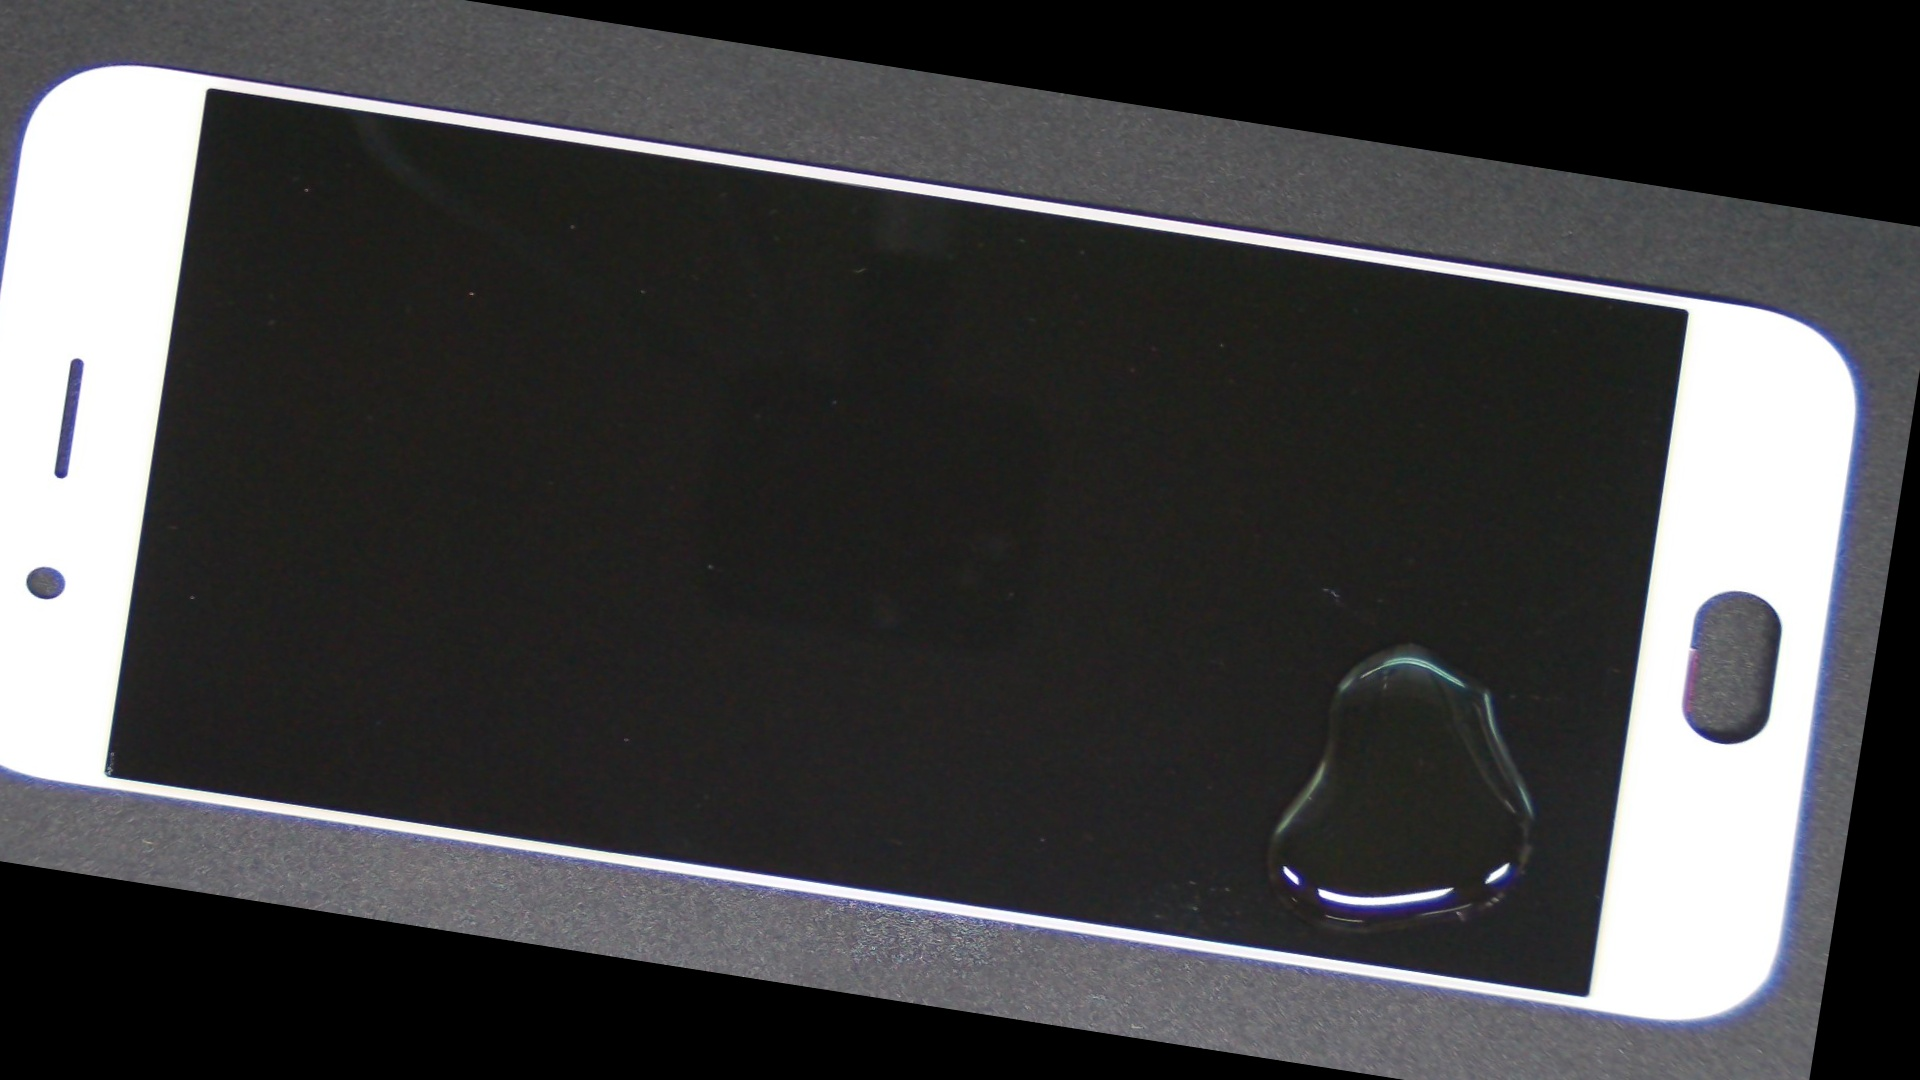oil: (617, 284, 1904, 957)
